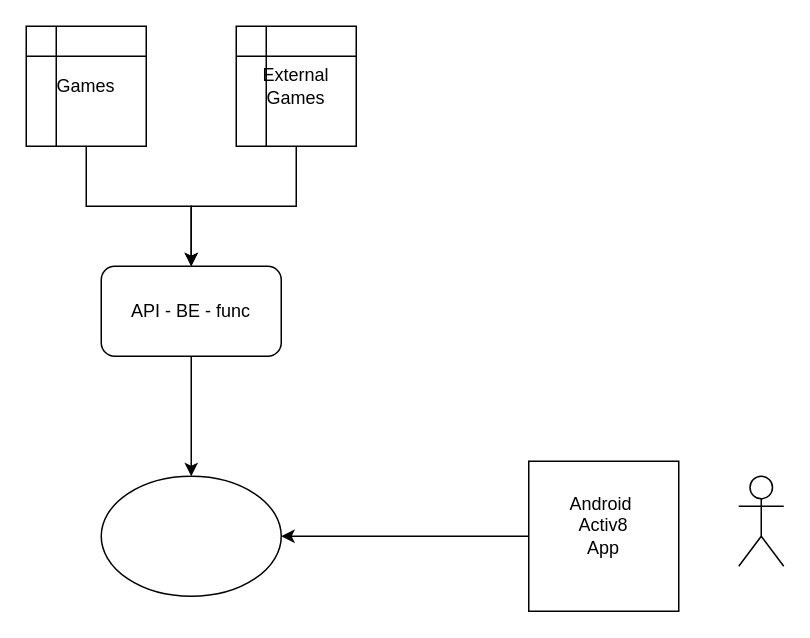
Image size: 810x638. Some labels were removed from this diagram. The shapes that lost their labels are listed below. From the top down, each one's centre as x and y in pixels, then its label:
(190,535): Games List API
(760,520): Actor
